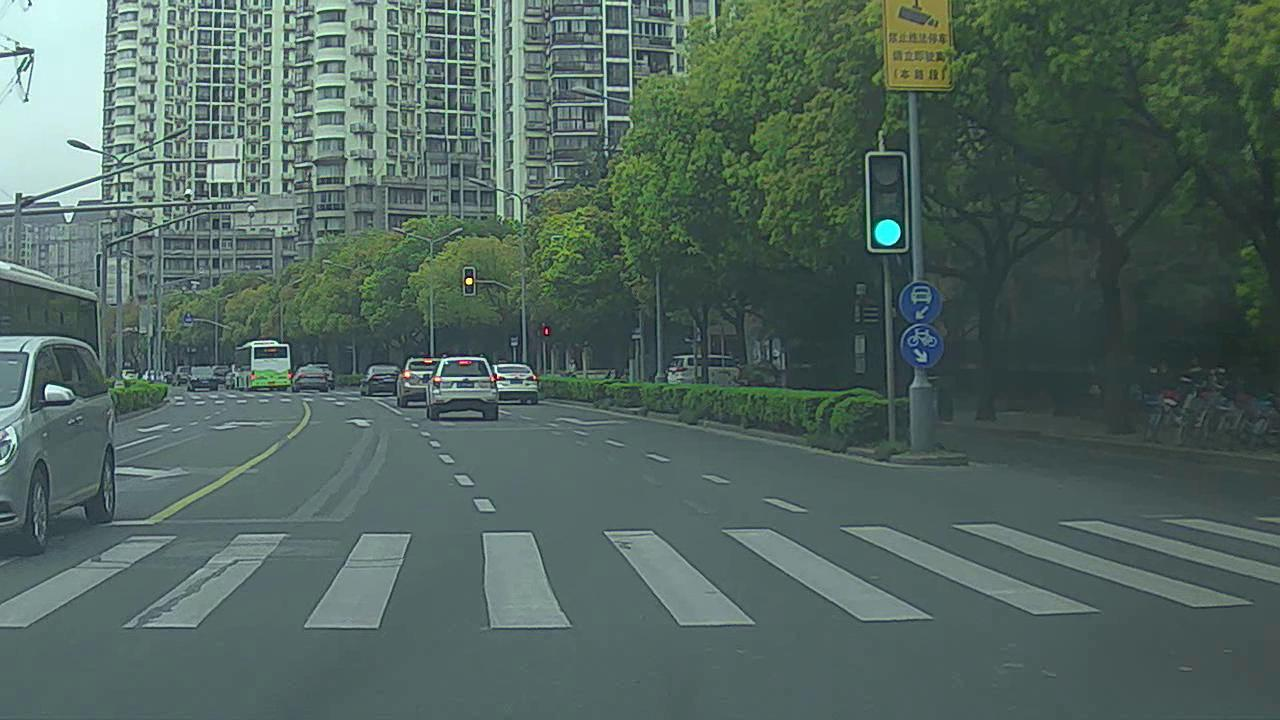traffic_light: (865, 157, 912, 252), (463, 264, 478, 293)
